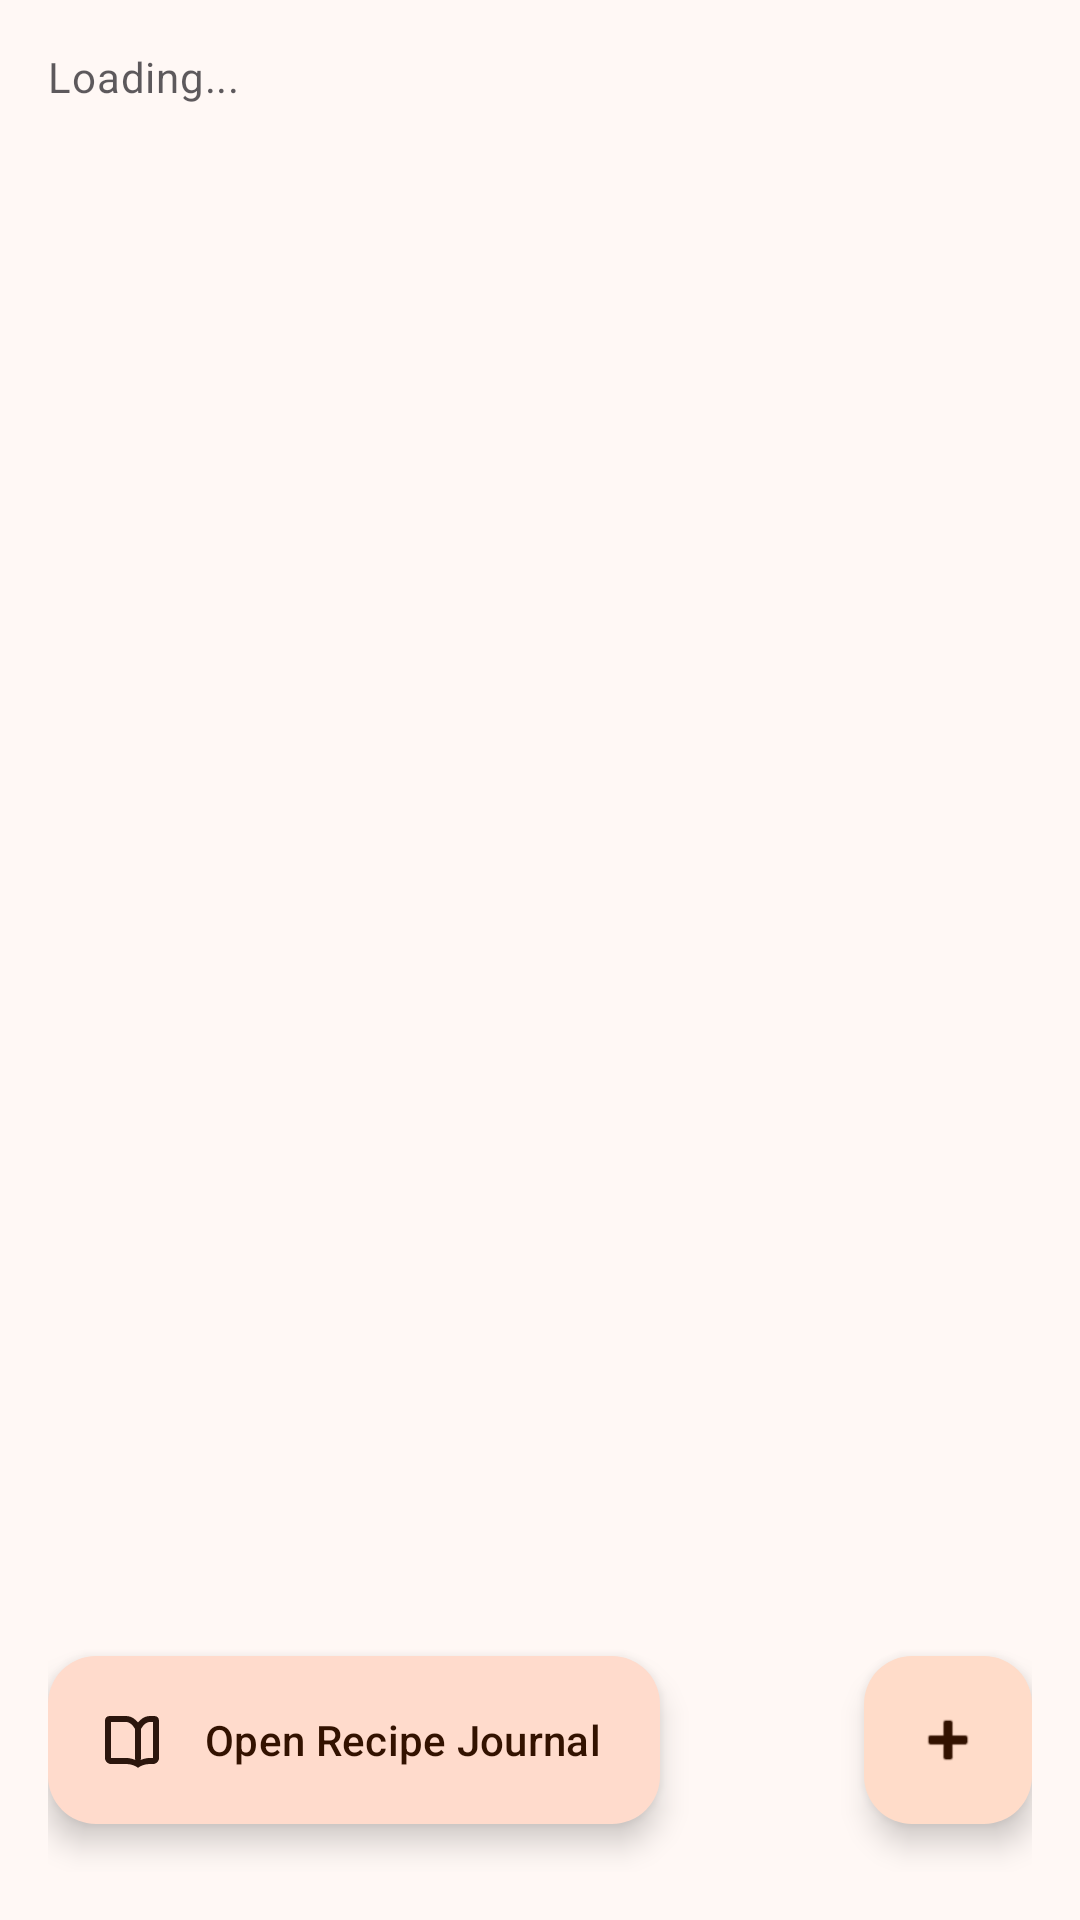

Icon bounding boxes for this 1080px×1920px phone screenshot, format detection(x1, y1, x2, y2):
Add Recipe: detection(864, 1656, 1032, 1824)
